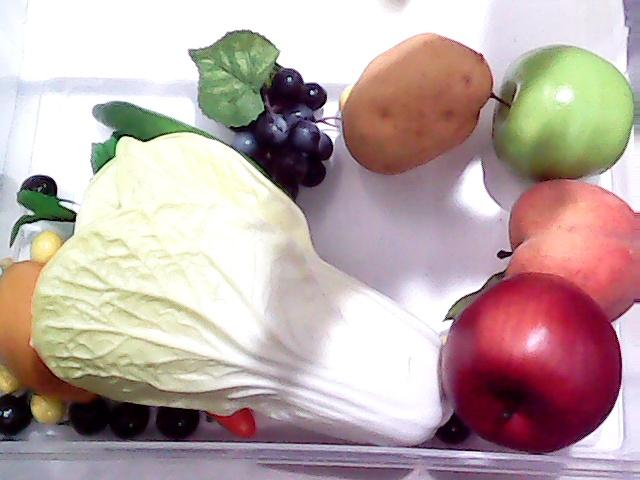apple: (438, 276, 626, 454), (488, 42, 636, 184)
carrot: (208, 401, 260, 443)
grape: (224, 66, 340, 209)
lemon: (0, 259, 70, 397)
napa cabbage: (29, 114, 478, 446)
peach: (496, 180, 640, 328)
pepper: (86, 96, 314, 220)
potato: (339, 29, 495, 175)
